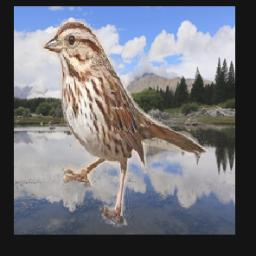Sparrow: (42, 19, 208, 227)
